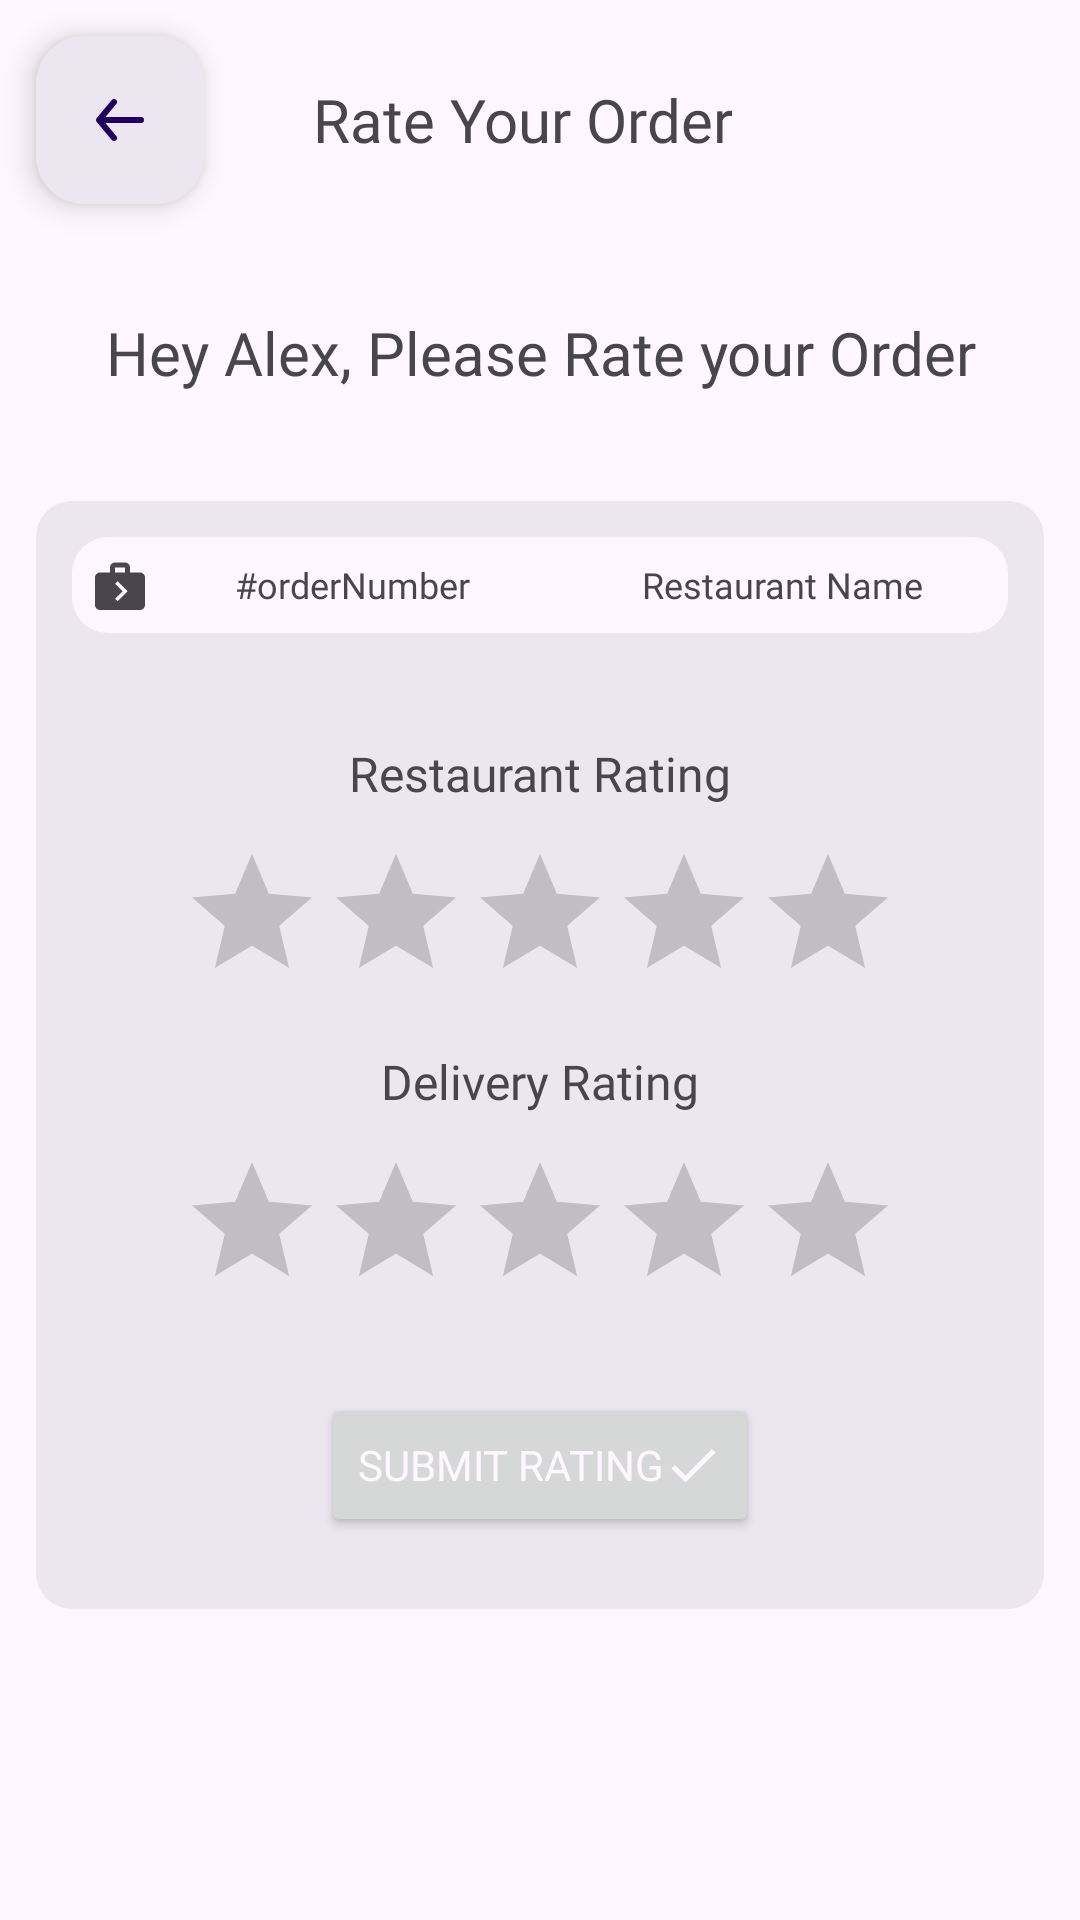

Named icons in this screenshot (1080px x 1920px) and their bounding boxes, (x1, y1, x2, y2):
back arrow: (96, 99, 144, 141)
